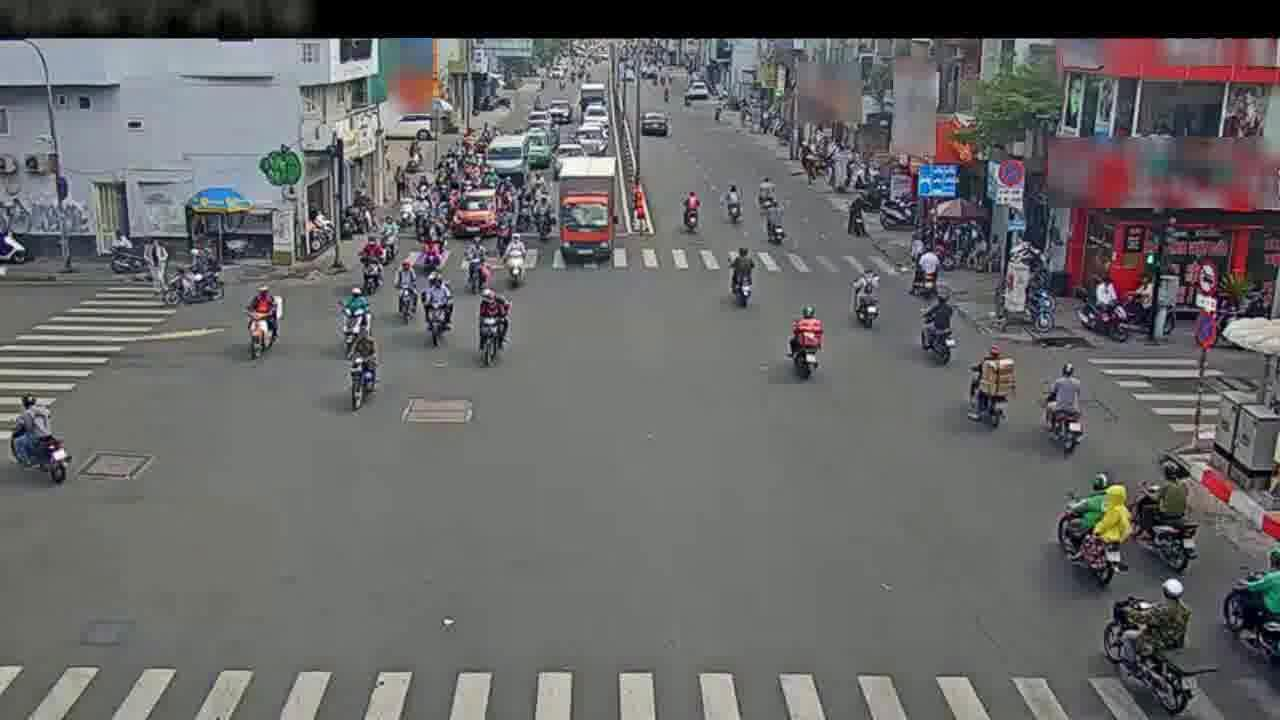8: (555, 154, 620, 267)
container: (455, 185, 497, 241), (634, 101, 669, 147)
motorbike: (1101, 599, 1188, 708), (1058, 478, 1127, 589), (1222, 555, 1280, 660), (1140, 473, 1193, 574), (13, 390, 70, 482), (970, 338, 1013, 431), (1043, 366, 1081, 458), (176, 246, 227, 309), (919, 289, 956, 369), (243, 282, 279, 364), (787, 299, 821, 385), (347, 318, 376, 414), (903, 239, 941, 305), (479, 281, 505, 368), (423, 273, 449, 352), (851, 265, 879, 338), (342, 284, 368, 361), (728, 243, 755, 312), (840, 188, 871, 245), (359, 231, 384, 301), (502, 223, 526, 288), (395, 253, 418, 319), (762, 194, 786, 254), (678, 184, 702, 244), (464, 235, 487, 296), (420, 217, 444, 274), (721, 178, 744, 234), (382, 216, 397, 262)
